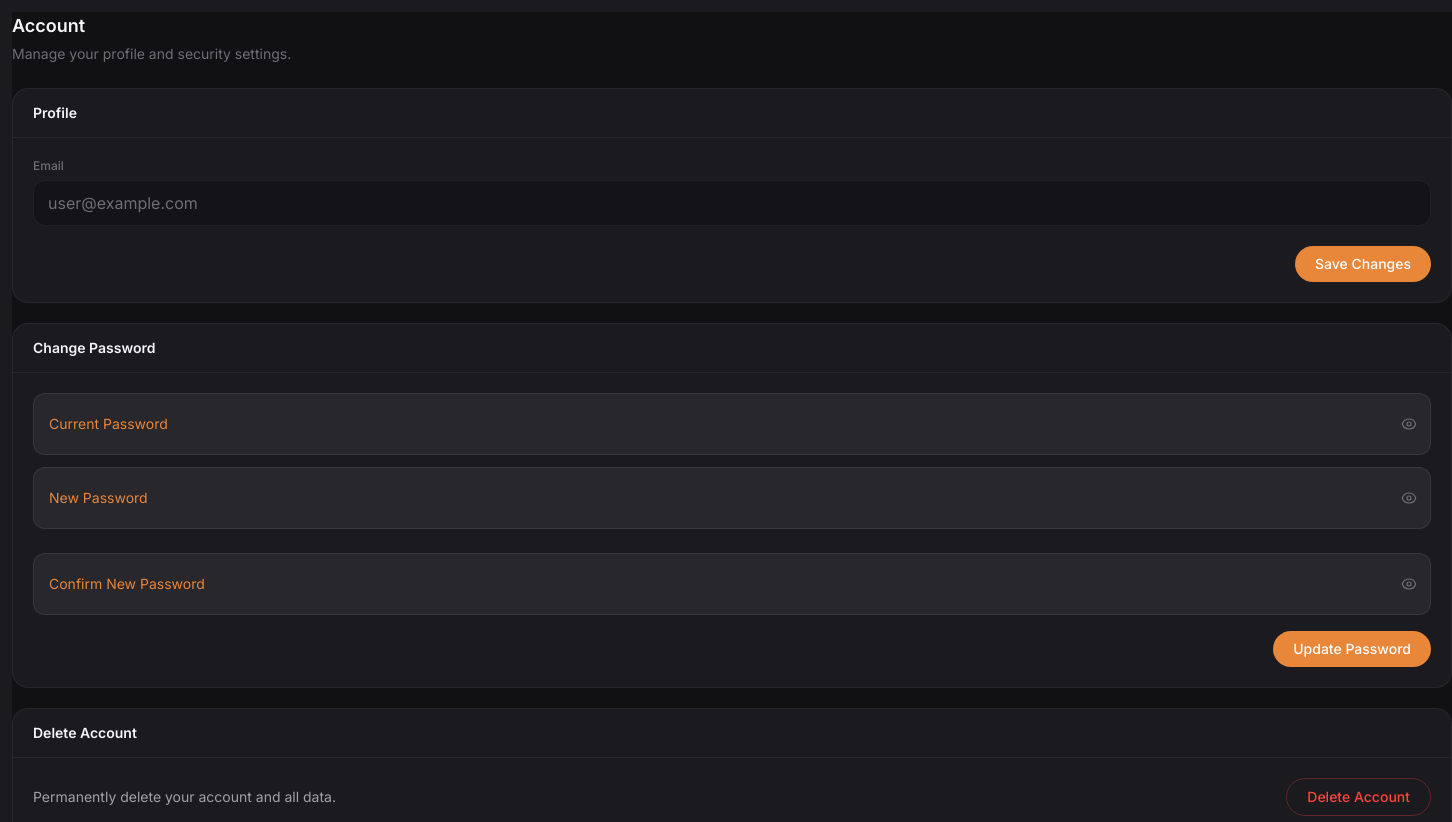
AccountTab — Save Changes › shows success message after save
What coordinates should you click on to do the following:
click the button "Save Changes"
I would click on:
 (1363, 264)
Its box is [1295,246,1431,282].
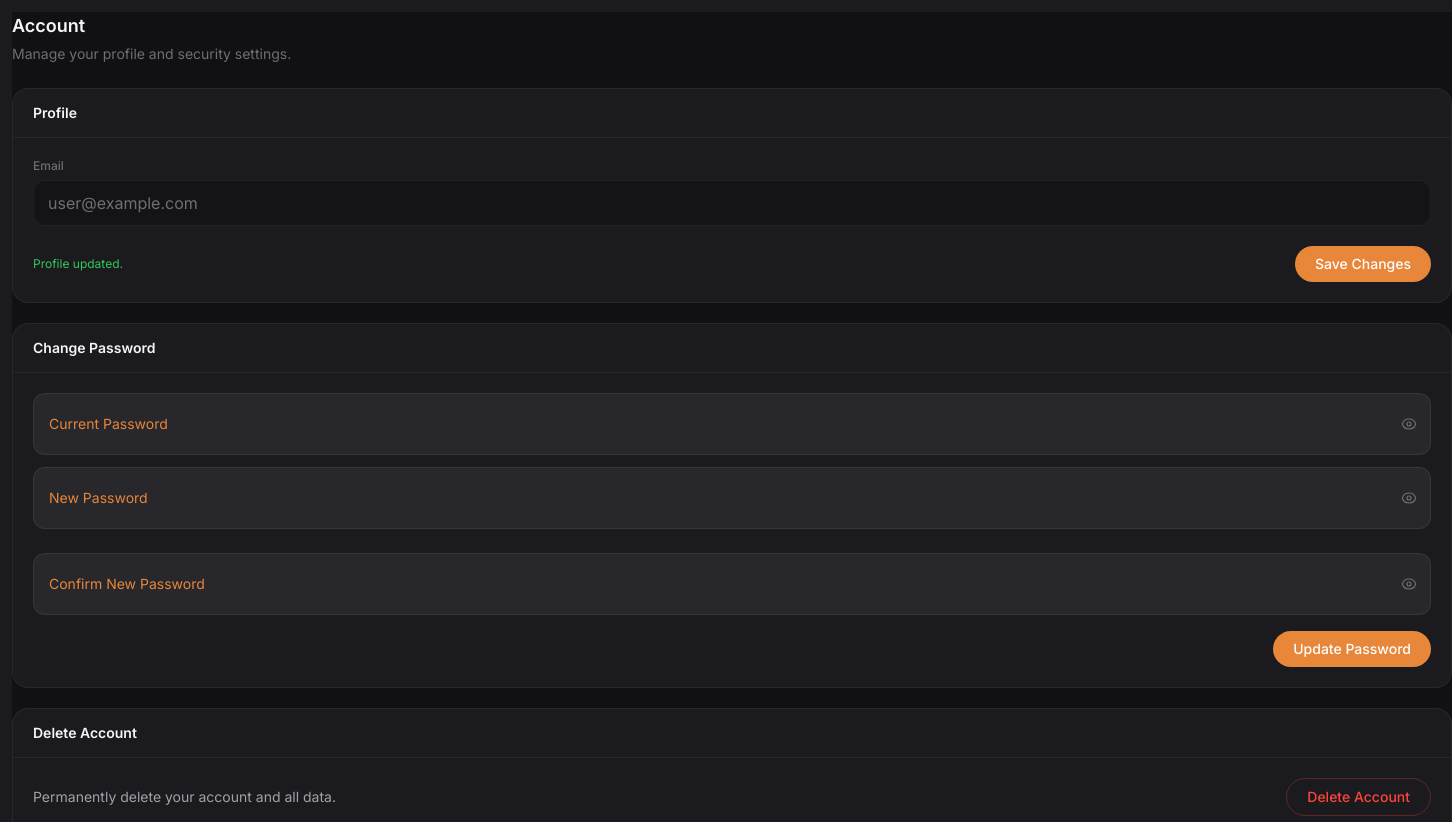
Check: the text "Profile updated." is shown, box [33,256,123,272]
